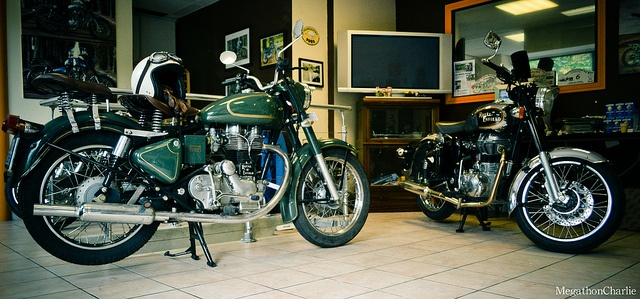non-vehicle: (1, 19, 371, 266), (394, 28, 625, 252)
